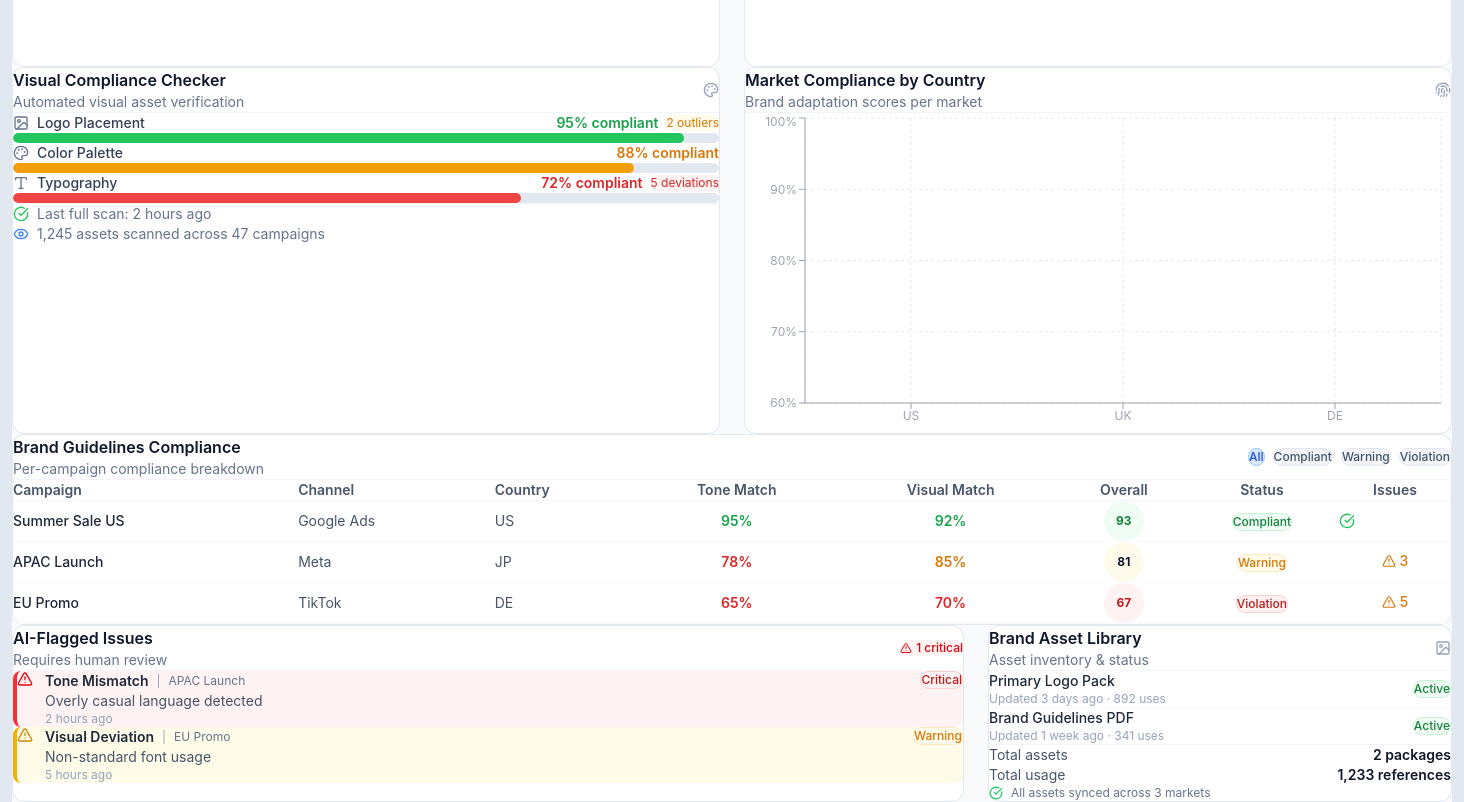
Test: BrandConsistency › filters campaigns by status when filter buttons are clicked
(page scrolled)
Click the button "Compliant": [1303, 457] box [1273, 448, 1333, 466]
(page scrolled)
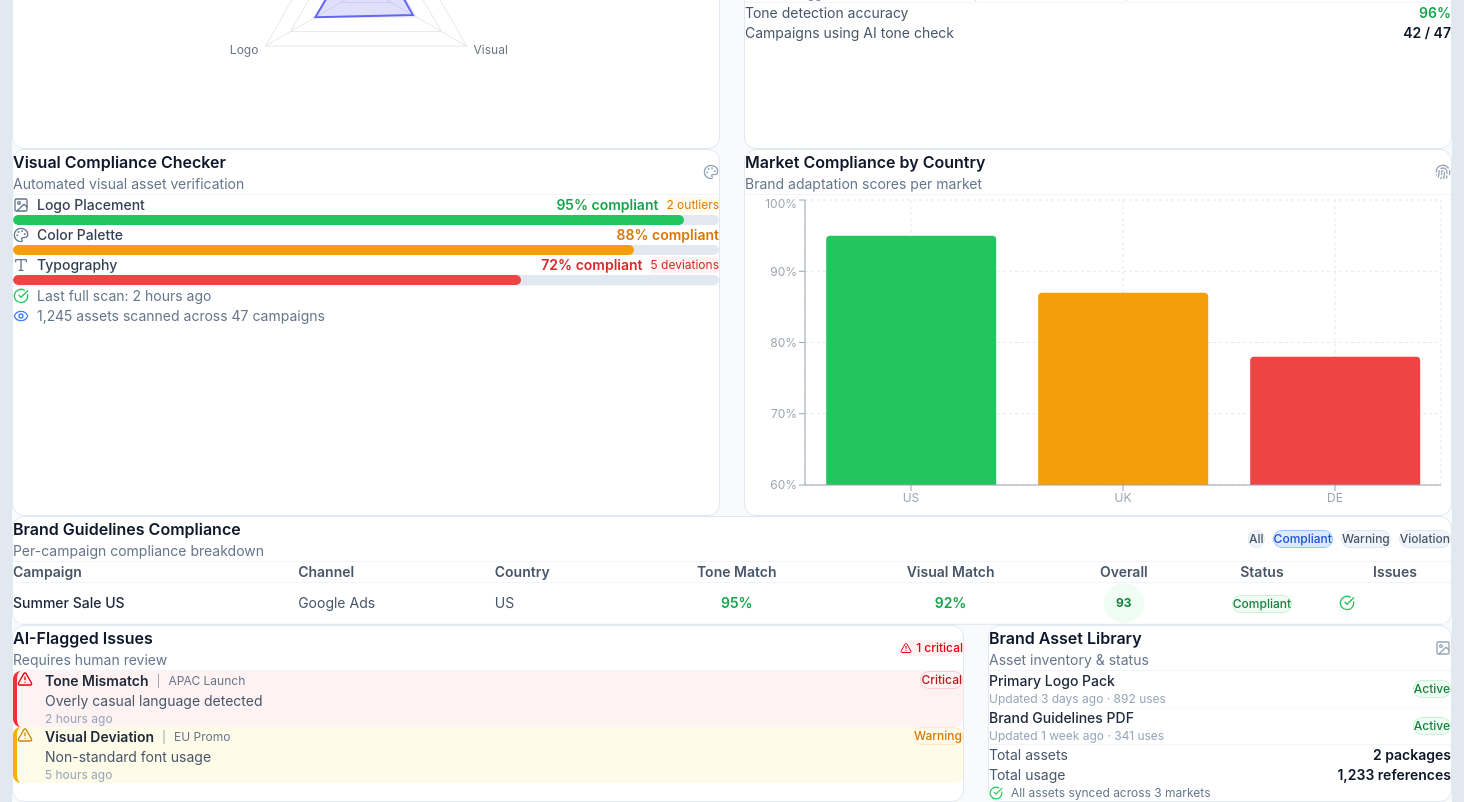
Expected: the text "Summer Sale US" is shown, [13, 582, 298, 624]
Expected: the text "TikTok" is gone
